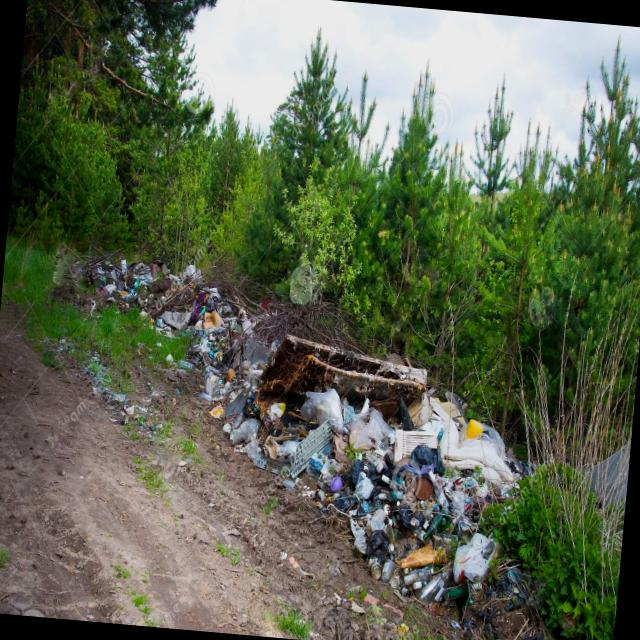garbage: (249, 312, 563, 612)
